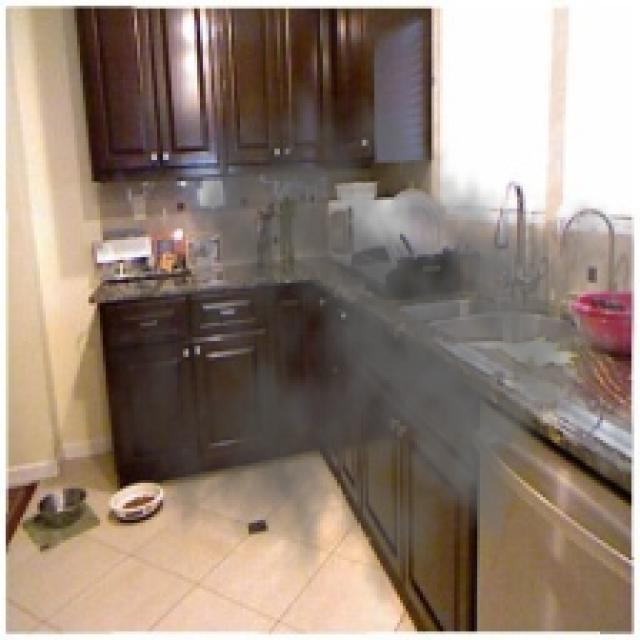Smoke: (106, 75, 634, 634)
